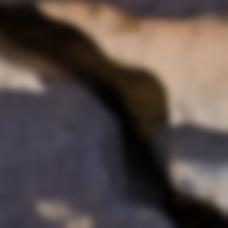brick: (77, 0, 227, 19), (0, 0, 28, 3)
broken_brick: (0, 83, 171, 227), (169, 119, 227, 210)
crack: (0, 0, 227, 227)
